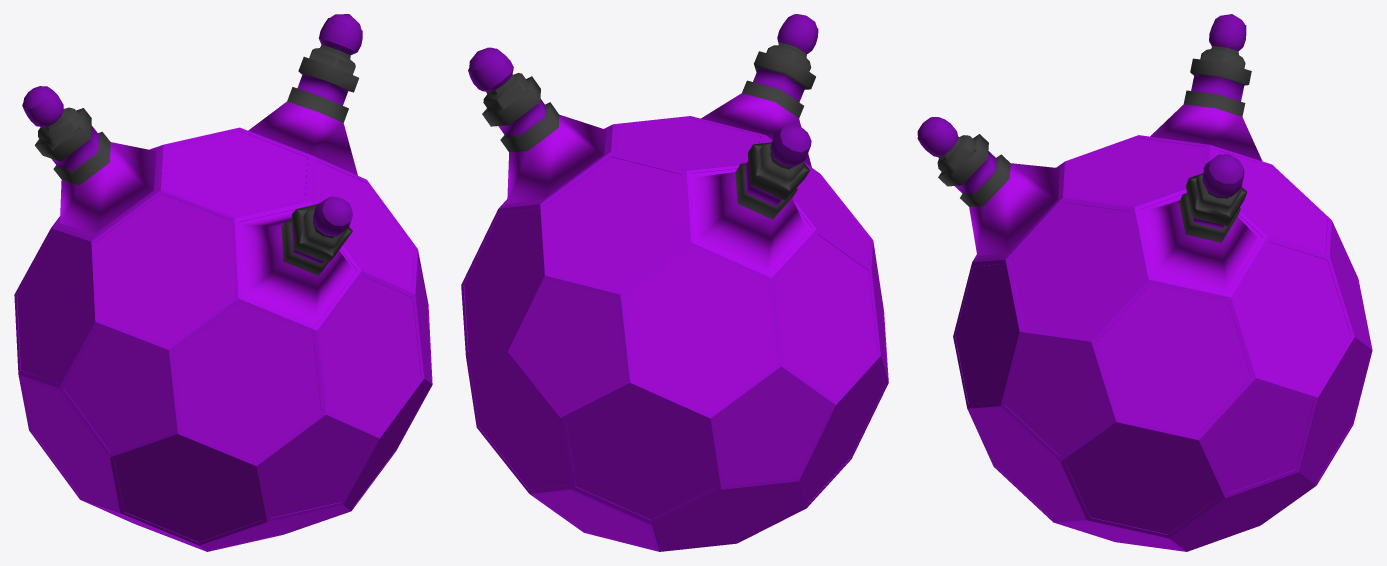
Rendered from Final Boss v2.fbx.
3 views of the same model, side by side, from view 1: azimuth 30°, elevation 25°; view 2: azimuth 150°, elevation 25°; view 3: azimuth 270°, elevation 25° (orthographic). The views are drawn at different scales.
Parts seen in each view (by area): view 1: Force_Field, Beam2, Beam1, Beam3; view 2: Force_Field, Beam2, Beam3, Beam1; view 3: Force_Field, Beam3, Beam1, Beam2.
Boxes of the visible parts, left/top/right/bottom form: Force_Field: left=14, top=127, right=432, bottom=551; Beam2: left=22, top=86, right=156, bottom=234; Beam1: left=241, top=196, right=353, bottom=322; Beam3: left=248, top=14, right=362, bottom=175; Force_Field: left=461, top=116, right=888, bottom=551; Beam2: left=694, top=124, right=811, bottom=268; Beam3: left=468, top=47, right=606, bottom=203; Beam1: left=701, top=14, right=818, bottom=167; Force_Field: left=953, top=135, right=1372, bottom=551; Beam3: left=1142, top=154, right=1257, bottom=289; Beam1: left=917, top=117, right=1059, bottom=255; Beam2: left=1150, top=14, right=1262, bottom=161.
Size of the model in its own units: 534 by 628 by 589.
